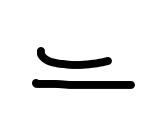eqv: (33, 47, 135, 89)
